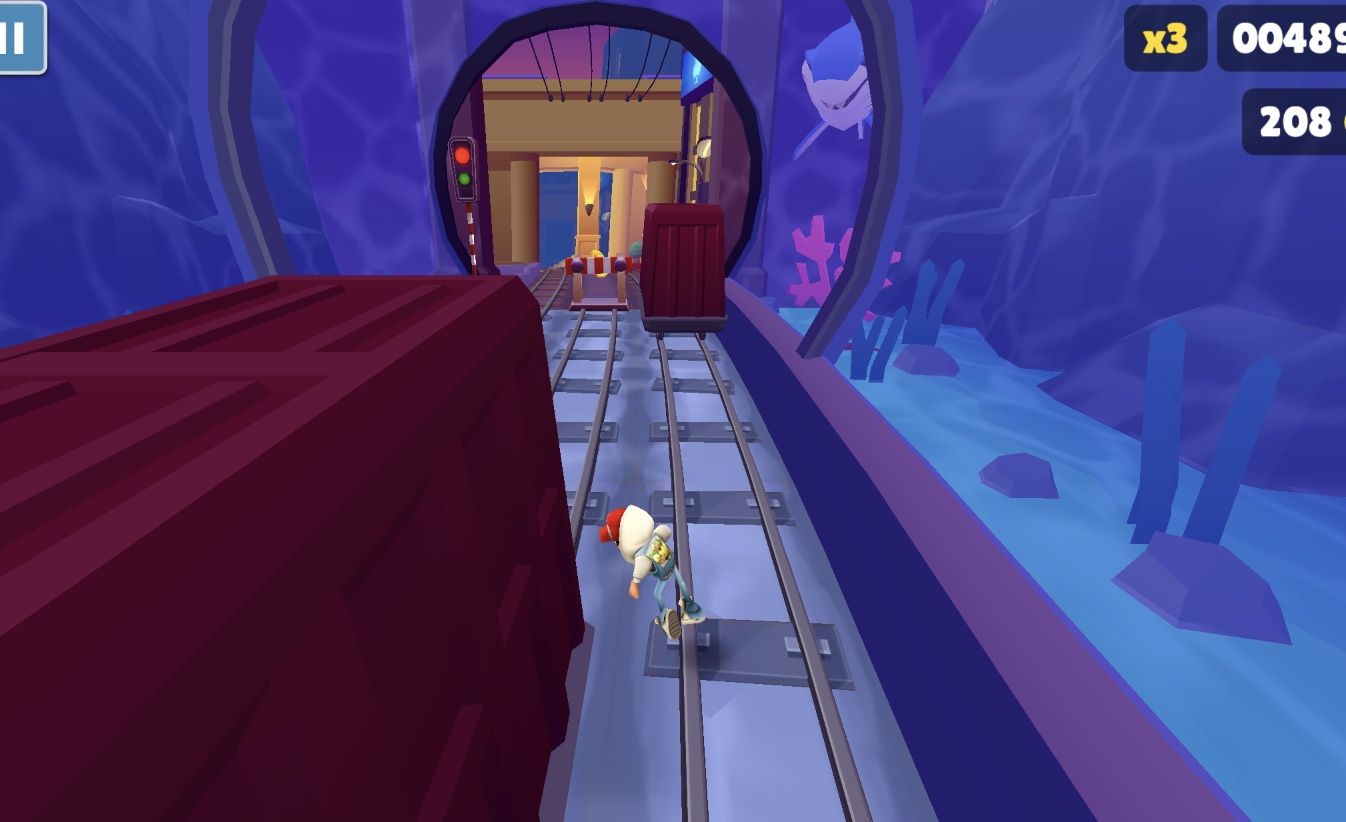ground_barrier: (563, 255, 637, 312)
pillar: (575, 155, 603, 262)
train: (0, 274, 585, 822), (638, 203, 729, 335)
